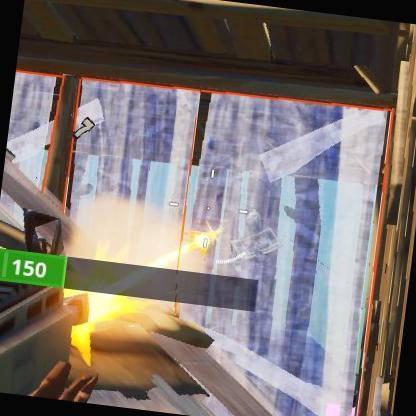person: (221, 205, 292, 329)
